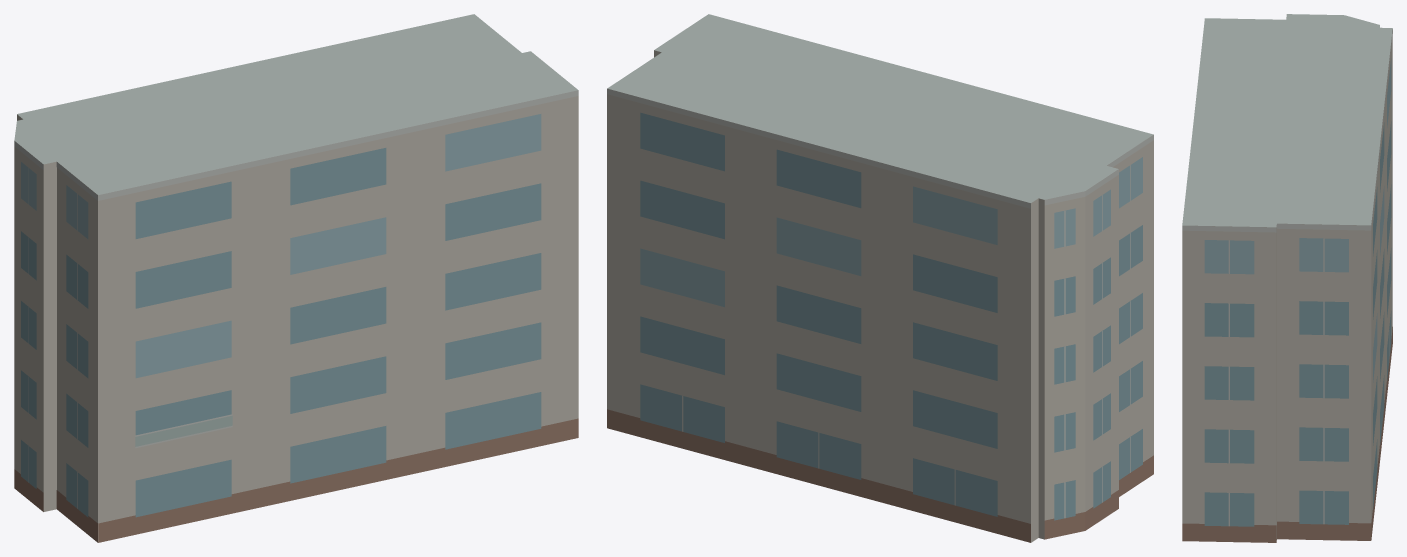
File: survey-upis-32616736.glb
3 renders of one model, left to right at view 1: azimuth 30°, elevation 25°; view 2: azimuth 150°, elevation 25°; view 3: azimuth 270°, elevation 25°, orthographic. The views are drawn at different scales.
Visible parts, largest first — view 1: survey-upis-32616736.tmp; view 2: survey-upis-32616736.tmp; view 3: survey-upis-32616736.tmp.
Part boxes in pixels (bbox=[...]): survey-upis-32616736.tmp: bbox=[14, 14, 578, 542]; survey-upis-32616736.tmp: bbox=[607, 14, 1153, 542]; survey-upis-32616736.tmp: bbox=[1182, 14, 1392, 542].
Bounding box in the file's own units: 21.46 × 14.8 × 8.96.
